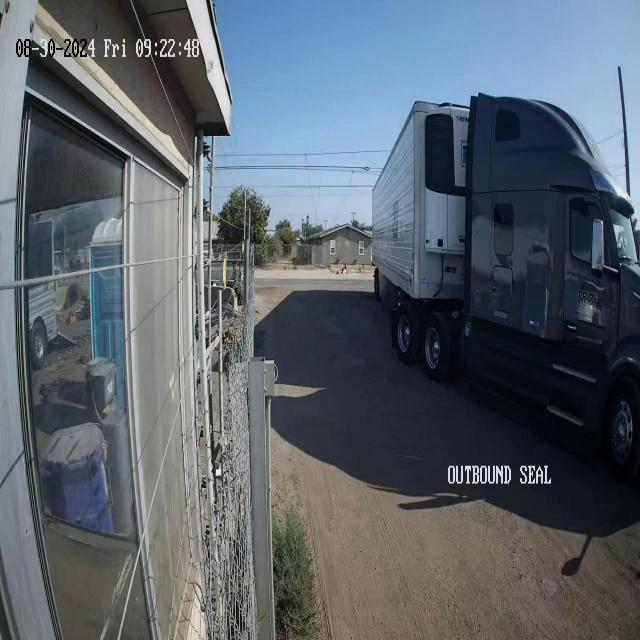TRUCK_CONTAINER: (371, 91, 640, 463)
